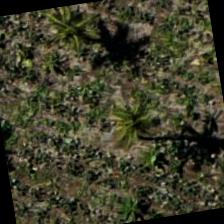Kelapa_Sawit: (74, 66, 178, 168), (14, 0, 112, 73)
